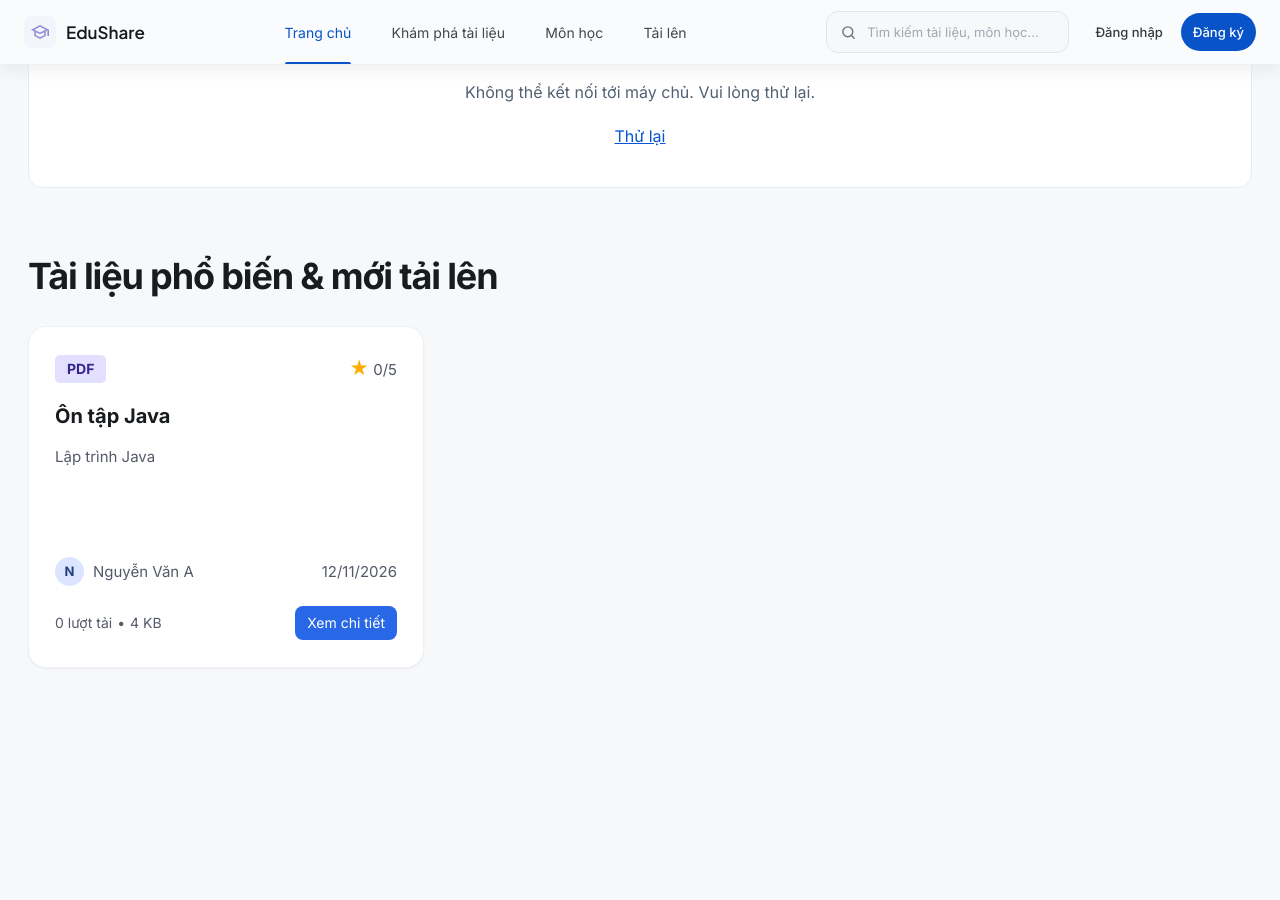
Test: opens an approved document from the public homepage and prompts guests to sign in to interact
(page scrolled)
Click the link "Xem chi tiết" at (346, 622), box [295,606,397,640]
(page scrolled)
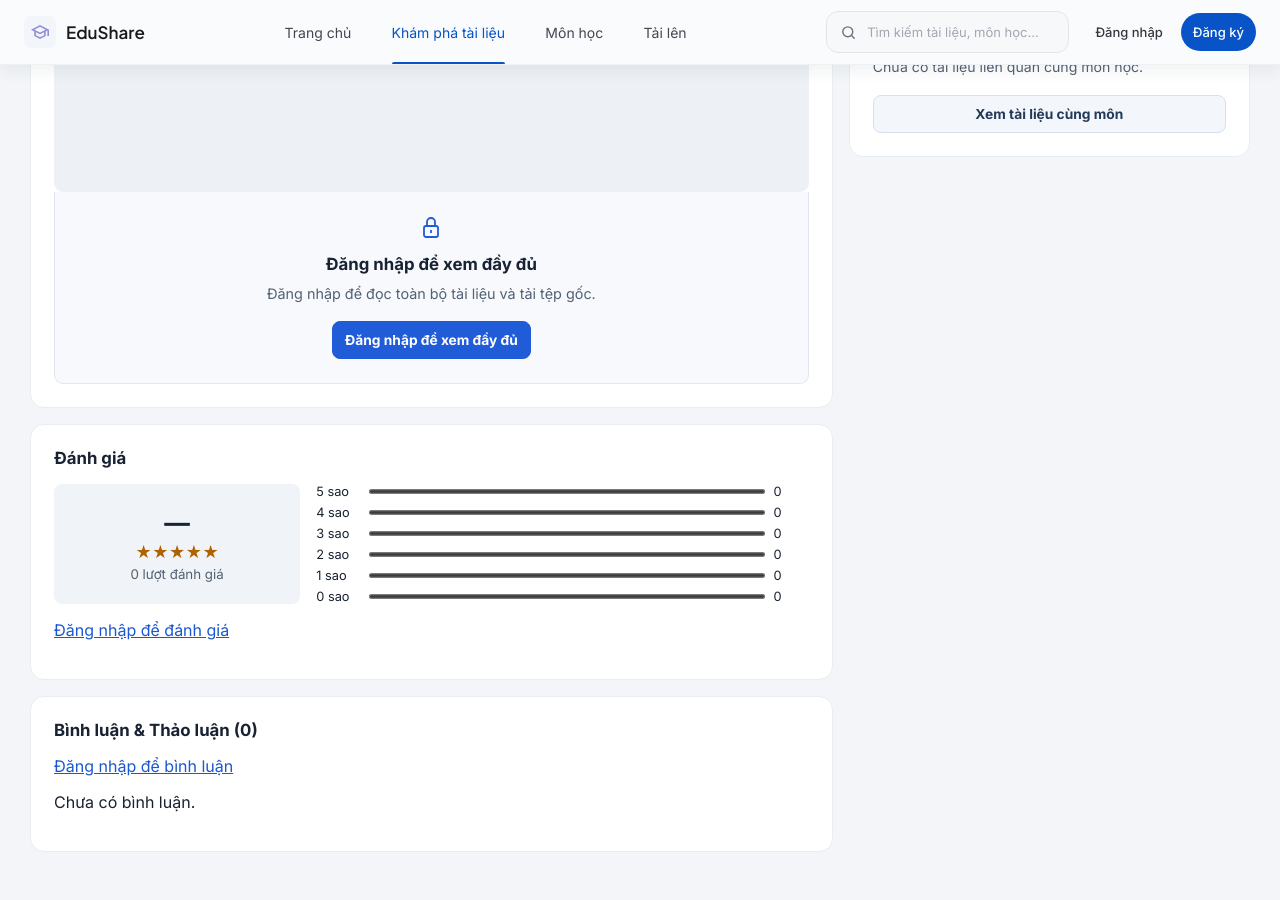
Check: the link "Đăng nhập để đánh giá" is shown, box [54,620,229,640]
Check: the text "Chưa có bình luận." is shown, box [54,792,195,812]
